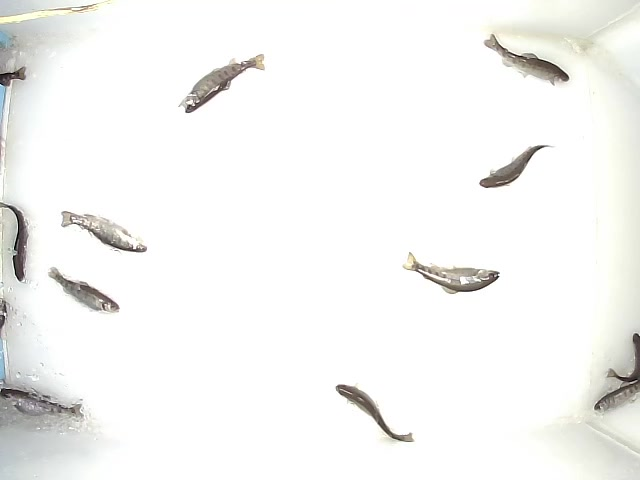fish: (176, 51, 267, 115), (334, 381, 416, 446), (481, 34, 572, 87), (402, 251, 504, 296), (58, 207, 152, 255), (475, 141, 554, 190), (46, 264, 120, 311), (1, 195, 30, 281)
